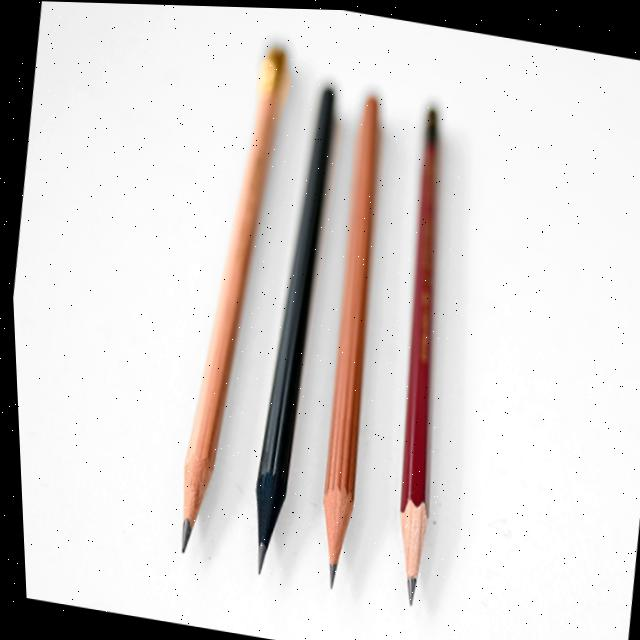pencil: (148, 32, 309, 567), (345, 92, 494, 624), (281, 81, 419, 600), (223, 71, 359, 595)
